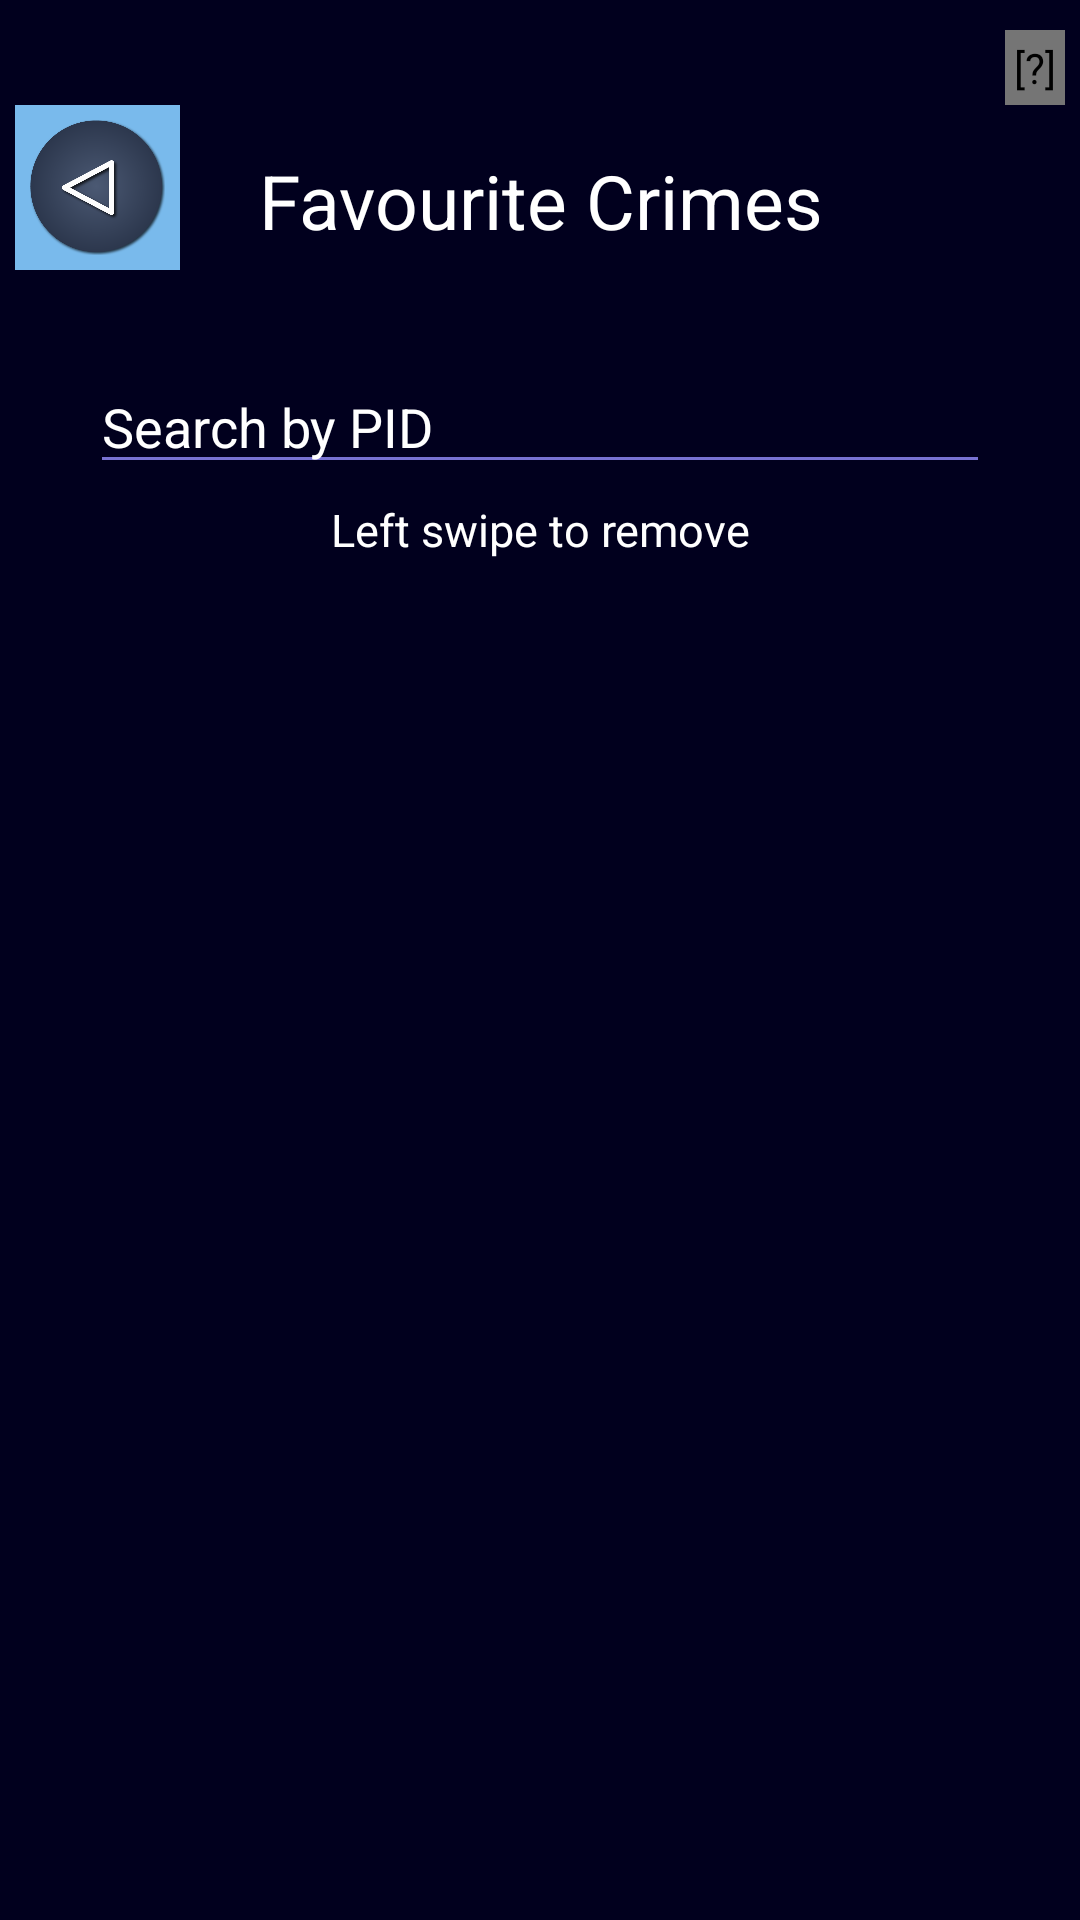

Named icons in this screenshot (1080*1920) and their bounding boxes, (x1=x1, y1=y1, x2=x2, y2=y2):
backbutton: (x1=15, y1=105, x2=180, y2=270)
